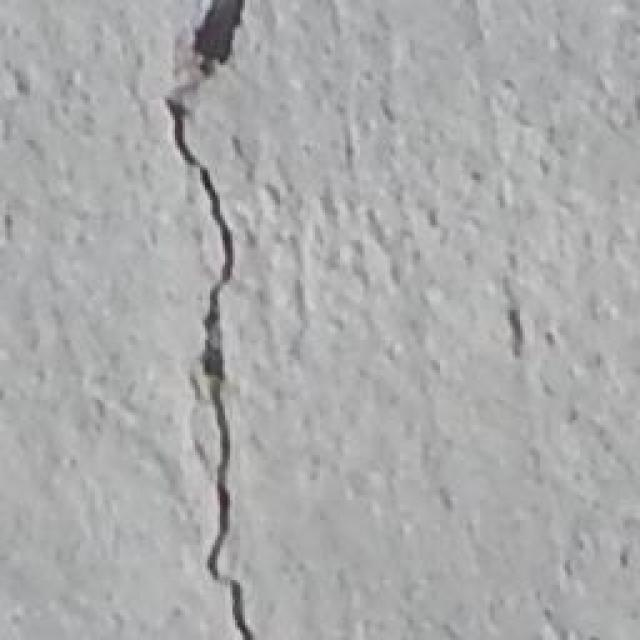concrete-crack: (155, 0, 263, 640)
